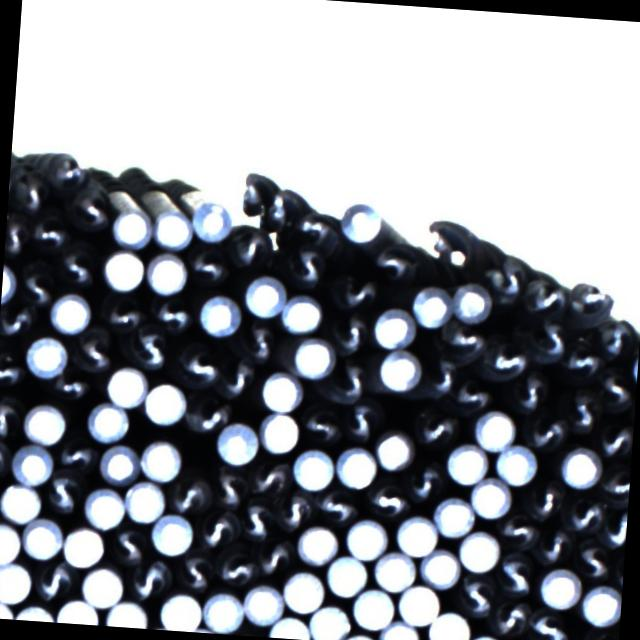tool: (22, 330, 68, 380), (448, 278, 495, 325), (46, 289, 94, 335), (280, 566, 326, 614), (194, 292, 240, 338), (290, 446, 336, 492), (81, 482, 127, 528), (342, 516, 390, 560), (107, 199, 151, 247), (290, 334, 336, 379), (240, 272, 285, 318), (190, 196, 236, 241), (324, 552, 369, 597), (430, 492, 475, 537), (396, 580, 440, 626), (142, 250, 188, 294), (100, 248, 146, 292), (18, 514, 62, 560), (372, 548, 418, 592), (84, 400, 130, 444), (22, 400, 68, 444), (258, 409, 302, 455), (493, 440, 537, 486), (138, 436, 182, 482), (215, 418, 259, 464), (240, 580, 284, 626), (468, 475, 512, 520), (122, 477, 166, 522), (59, 524, 104, 568), (350, 585, 394, 630), (104, 363, 148, 408), (395, 512, 439, 557), (258, 368, 302, 413), (340, 199, 384, 244), (558, 445, 602, 490), (408, 282, 451, 328), (158, 588, 202, 632), (80, 563, 124, 607), (148, 512, 192, 556), (278, 291, 322, 335), (472, 407, 516, 451), (578, 582, 622, 626), (418, 544, 461, 588), (445, 441, 489, 484), (144, 381, 186, 426), (457, 528, 500, 571), (201, 588, 243, 632), (334, 444, 376, 488), (10, 442, 53, 484), (377, 349, 419, 392), (295, 522, 338, 564), (372, 308, 415, 350), (374, 426, 414, 471), (150, 207, 192, 249), (98, 441, 139, 484), (0, 479, 41, 522), (307, 601, 352, 640), (538, 568, 580, 609), (425, 607, 470, 640), (0, 558, 32, 603), (103, 596, 147, 628), (55, 596, 100, 626), (268, 613, 310, 640), (378, 617, 419, 640), (0, 518, 20, 563), (14, 600, 54, 622), (464, 632, 504, 640)
tool_b: (372, 236, 422, 286), (426, 212, 471, 264), (173, 340, 221, 388), (7, 166, 54, 212), (436, 319, 486, 362), (482, 252, 524, 303), (70, 188, 116, 234), (492, 548, 536, 596), (523, 269, 565, 319), (564, 278, 616, 318), (518, 479, 564, 524), (182, 395, 230, 438), (218, 352, 258, 402), (344, 394, 384, 444), (29, 560, 74, 604), (334, 270, 380, 313), (530, 521, 574, 565), (127, 558, 172, 601), (129, 326, 171, 372), (292, 207, 340, 247), (418, 352, 458, 400), (326, 360, 369, 404), (282, 242, 324, 287), (486, 598, 531, 640), (195, 507, 238, 550), (299, 403, 342, 446), (572, 538, 614, 582), (452, 574, 493, 619), (309, 490, 360, 526), (564, 382, 600, 433), (165, 474, 208, 516), (98, 300, 148, 336), (484, 338, 529, 378), (530, 316, 568, 363), (254, 540, 296, 582), (230, 224, 272, 266), (74, 330, 115, 373), (108, 522, 148, 566), (238, 497, 278, 541), (364, 480, 408, 520), (406, 460, 444, 506), (493, 510, 539, 548), (44, 470, 80, 518), (150, 294, 195, 332), (524, 412, 569, 450), (210, 466, 250, 508), (58, 245, 98, 287), (330, 313, 370, 355), (174, 550, 214, 591), (214, 546, 256, 585), (414, 410, 456, 449), (236, 169, 272, 214), (562, 498, 602, 538), (596, 318, 638, 356), (250, 458, 294, 494), (30, 212, 70, 251), (189, 244, 227, 285), (596, 368, 634, 409), (266, 181, 298, 229), (596, 421, 634, 460), (512, 371, 547, 413), (20, 266, 56, 306), (55, 436, 97, 470), (276, 490, 310, 532), (49, 152, 86, 190), (452, 378, 491, 414), (4, 210, 33, 258), (49, 371, 90, 404), (563, 345, 605, 377), (598, 507, 628, 549), (0, 305, 40, 336), (600, 464, 631, 504), (526, 609, 565, 640), (0, 346, 27, 388), (0, 396, 23, 442), (0, 440, 11, 483), (585, 628, 619, 640)
